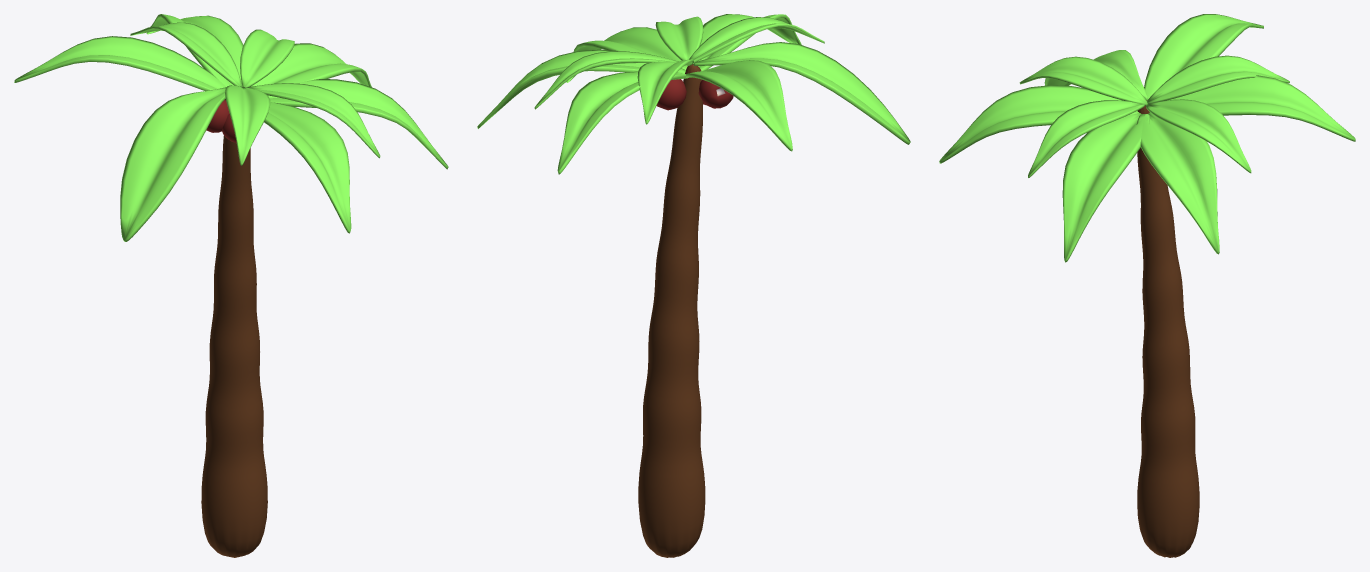
Rendered from provisorai.fbx.
3 views of the same model, side by side, from view 1: azimuth 30°, elevation 25°; view 2: azimuth 150°, elevation 25°; view 3: azimuth 270°, elevation 25° (orthographic). The views are drawn at different scales.
Parts seen in each view (by area): view 1: Cylinder.1310, Cylinder.345, Cylinder.1320, Cylinder.1314, Cylinder.1318, Cylinder.1299, Cylinder.1322, Cylinder.1323, Cylinder.1307, Cylinder.1325, Cylinder.1298; view 2: Cylinder.1310, Cylinder.345, Cylinder.1314, Cylinder.1298, Cylinder.1299, Cylinder.1318, Cylinder.1323, Cylinder.1325, Cylinder.1307, Cylinder.1322, Cylinder.1320, Sphere.115 (+1 smaller); view 3: Cylinder.1310, Cylinder.1318, Cylinder.1299, Cylinder.1298, Cylinder.1320, Cylinder.1314, Cylinder.1325, Cylinder.1307, Cylinder.1322, Cylinder.1323, Cylinder.345.
Part boxes in pixels (x1,y1,x2,y2): Cylinder.1310: (201, 136, 267, 557); Cylinder.345: (120, 87, 225, 241); Cylinder.1320: (264, 102, 351, 233); Cylinder.1314: (14, 36, 226, 90); Cylinder.1318: (268, 79, 448, 169); Cylinder.1299: (251, 43, 371, 87); Cylinder.1322: (246, 83, 380, 158); Cylinder.1323: (225, 85, 270, 165); Cylinder.1307: (130, 22, 241, 86); Cylinder.1325: (240, 29, 294, 87); Cylinder.1298: (146, 14, 243, 86); Cylinder.1310: (638, 64, 705, 557); Cylinder.345: (693, 42, 910, 144); Cylinder.1314: (685, 60, 792, 151); Cylinder.1298: (557, 71, 692, 174); Cylinder.1299: (477, 49, 685, 128); Cylinder.1318: (566, 27, 687, 82); Cylinder.1323: (687, 17, 824, 65); Cylinder.1325: (534, 51, 678, 109); Cylinder.1307: (637, 59, 693, 124); Cylinder.1322: (655, 16, 703, 60); Cylinder.1320: (693, 14, 801, 71); Sphere.115: (698, 80, 733, 108); Cylinder.1310: (1137, 100, 1199, 557); Cylinder.1318: (1062, 112, 1149, 262); Cylinder.1299: (1136, 112, 1219, 254); Cylinder.1298: (1149, 75, 1355, 141); Cylinder.1320: (939, 85, 1138, 163); Cylinder.1314: (1144, 14, 1263, 98); Cylinder.1325: (1146, 99, 1251, 173); Cylinder.1307: (1147, 55, 1289, 103); Cylinder.1322: (1028, 100, 1144, 177); Cylinder.1323: (1019, 56, 1147, 105); Cylinder.345: (1044, 50, 1147, 100).
Size of the model in its own units: 153 by 222 by 173.
